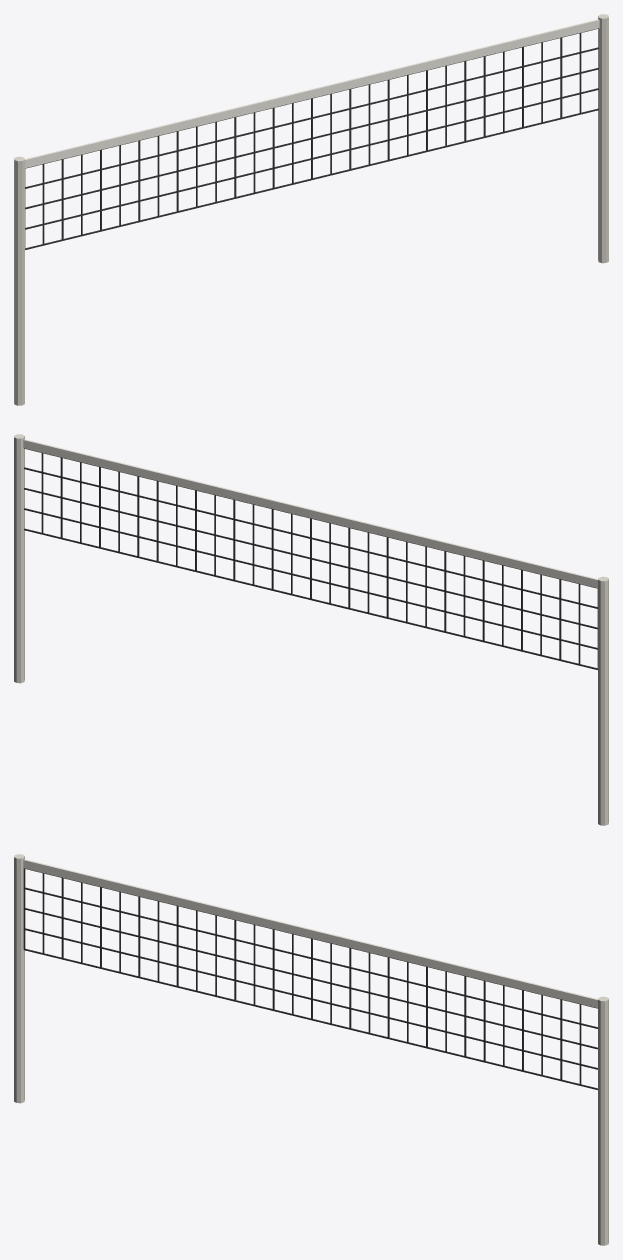
Rendered from Prop_VolleyNet.fbx.
3 renders of one model, top to bottom at view 1: azimuth 30°, elevation 25°; view 2: azimuth 150°, elevation 25°; view 3: azimuth 330°, elevation 25°, orthographic.
Visible parts, largest first — view 1: Prop_VolleyNet.001; view 2: Prop_VolleyNet.001; view 3: Prop_VolleyNet.001.
Part boxes in pixels (x1,y1,x2,y2): Prop_VolleyNet.001: [14, 14, 608, 405]; Prop_VolleyNet.001: [14, 434, 608, 825]; Prop_VolleyNet.001: [14, 854, 608, 1245].
Bounding box in the file's own units: 6.1 × 2.4 × 0.1.
